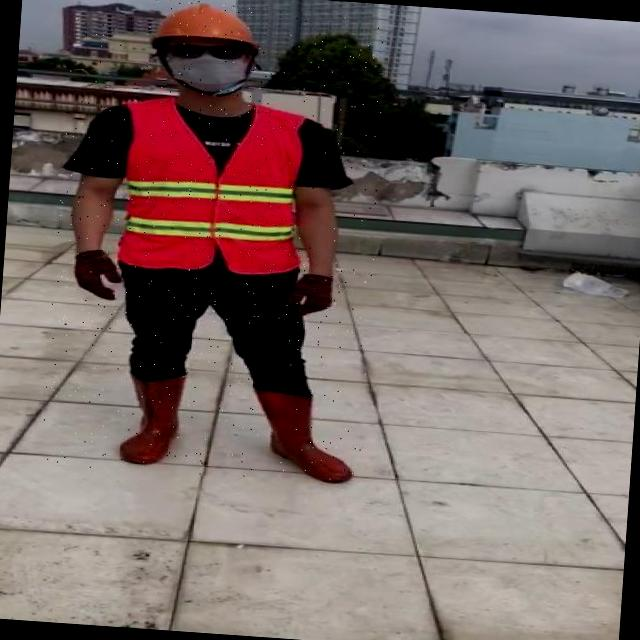boots: (248, 386, 358, 484), (118, 368, 188, 466)
gloves: (28, 222, 154, 324), (250, 254, 364, 342)
helmet: (145, 0, 267, 52)
vest: (118, 98, 312, 276)
